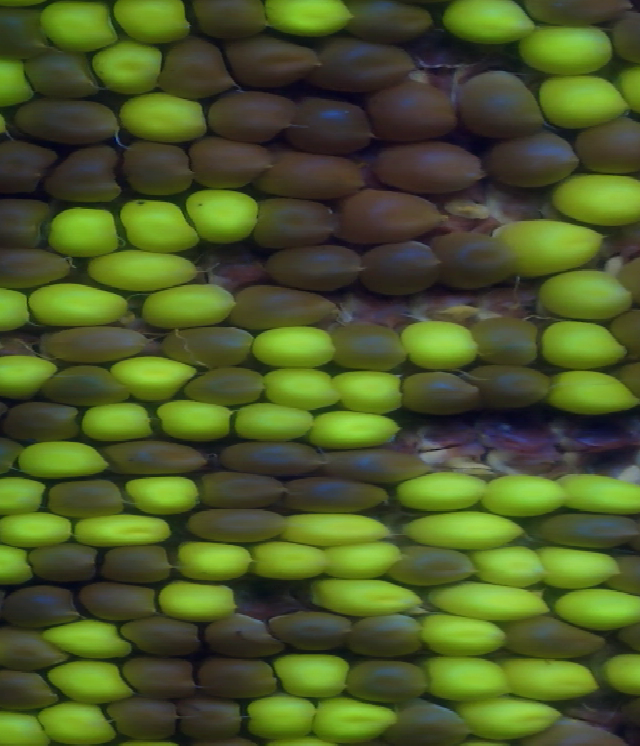fluorescent: (498, 218, 610, 280), (532, 268, 638, 323), (534, 71, 636, 127), (430, 576, 554, 622), (452, 695, 564, 743), (508, 24, 619, 71), (308, 578, 432, 620), (501, 656, 604, 706), (24, 284, 133, 331), (118, 193, 203, 253), (80, 249, 204, 290), (249, 326, 357, 373), (533, 536, 620, 593), (550, 367, 640, 422), (114, 92, 209, 144), (553, 170, 640, 226), (401, 507, 511, 551), (308, 698, 407, 746), (392, 320, 480, 374), (413, 613, 518, 658), (275, 509, 394, 546), (308, 410, 408, 453), (268, 653, 357, 701), (38, 1, 120, 53), (479, 473, 571, 519), (538, 325, 633, 369), (557, 468, 640, 518), (246, 538, 338, 583), (447, 1, 541, 45), (152, 390, 231, 442), (390, 471, 490, 512), (32, 699, 121, 745), (424, 657, 519, 700), (110, 1, 196, 48), (137, 284, 235, 325), (43, 658, 132, 703), (93, 43, 168, 96), (46, 620, 145, 660), (188, 191, 263, 243), (469, 543, 549, 588), (332, 371, 408, 418), (174, 541, 257, 584), (70, 514, 178, 547), (46, 204, 118, 253), (77, 400, 157, 444), (263, 1, 356, 38), (124, 473, 204, 516), (158, 578, 238, 619), (111, 358, 199, 395), (237, 400, 311, 444), (553, 591, 640, 628), (18, 440, 106, 476), (317, 542, 410, 576), (265, 368, 344, 408), (0, 353, 57, 402), (0, 511, 75, 544), (0, 476, 50, 515), (0, 286, 39, 332), (0, 545, 38, 591), (0, 55, 33, 106), (0, 707, 43, 746), (604, 651, 640, 696)
nonfluorescent: (259, 144, 371, 203), (458, 71, 555, 139), (332, 188, 443, 247), (15, 94, 134, 147), (302, 33, 418, 87), (364, 80, 460, 142), (225, 31, 323, 91), (505, 611, 620, 659), (224, 281, 334, 331), (378, 144, 490, 193), (287, 93, 378, 152), (486, 133, 583, 187), (44, 137, 122, 204), (207, 90, 302, 145), (153, 38, 237, 98), (38, 321, 158, 363), (118, 137, 196, 201), (219, 437, 332, 481), (242, 191, 335, 244), (427, 236, 519, 286), (192, 655, 284, 704), (279, 471, 391, 511), (183, 136, 269, 188), (321, 443, 432, 483), (470, 361, 552, 414), (526, 511, 640, 549), (394, 369, 486, 415), (111, 652, 198, 700), (105, 441, 217, 478), (184, 504, 291, 542), (0, 581, 82, 630), (364, 244, 444, 294), (42, 360, 132, 404), (346, 1, 432, 47), (195, 471, 292, 511), (274, 245, 365, 287), (471, 315, 548, 364), (163, 322, 251, 364), (516, 714, 631, 746), (347, 657, 425, 704), (330, 323, 411, 368), (173, 696, 254, 741), (268, 608, 356, 649), (0, 242, 80, 287), (389, 701, 468, 746), (22, 50, 99, 96), (49, 477, 130, 520), (574, 122, 640, 174), (207, 618, 285, 662), (77, 580, 162, 620), (121, 616, 206, 656), (107, 694, 176, 743), (392, 545, 480, 582), (0, 136, 58, 192), (0, 400, 81, 440), (98, 544, 179, 584), (346, 615, 422, 655), (0, 628, 66, 674), (188, 1, 272, 37), (193, 364, 266, 405), (0, 664, 62, 711), (24, 545, 100, 582), (517, 1, 634, 23), (0, 5, 50, 55), (0, 195, 47, 241), (608, 304, 640, 359), (610, 10, 640, 67), (602, 547, 640, 591)
